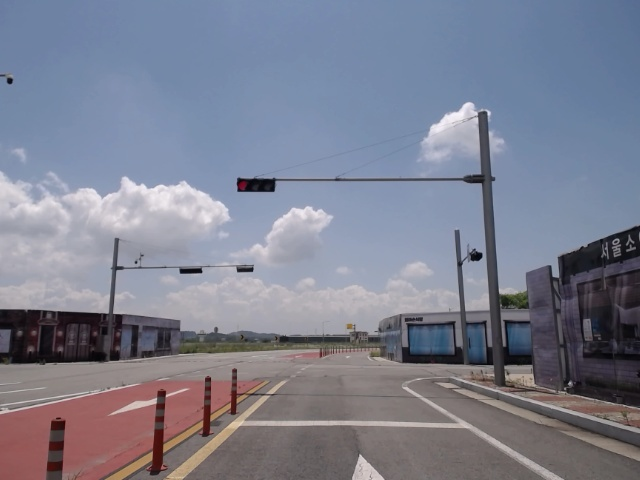red_3: (236, 179, 276, 192)
